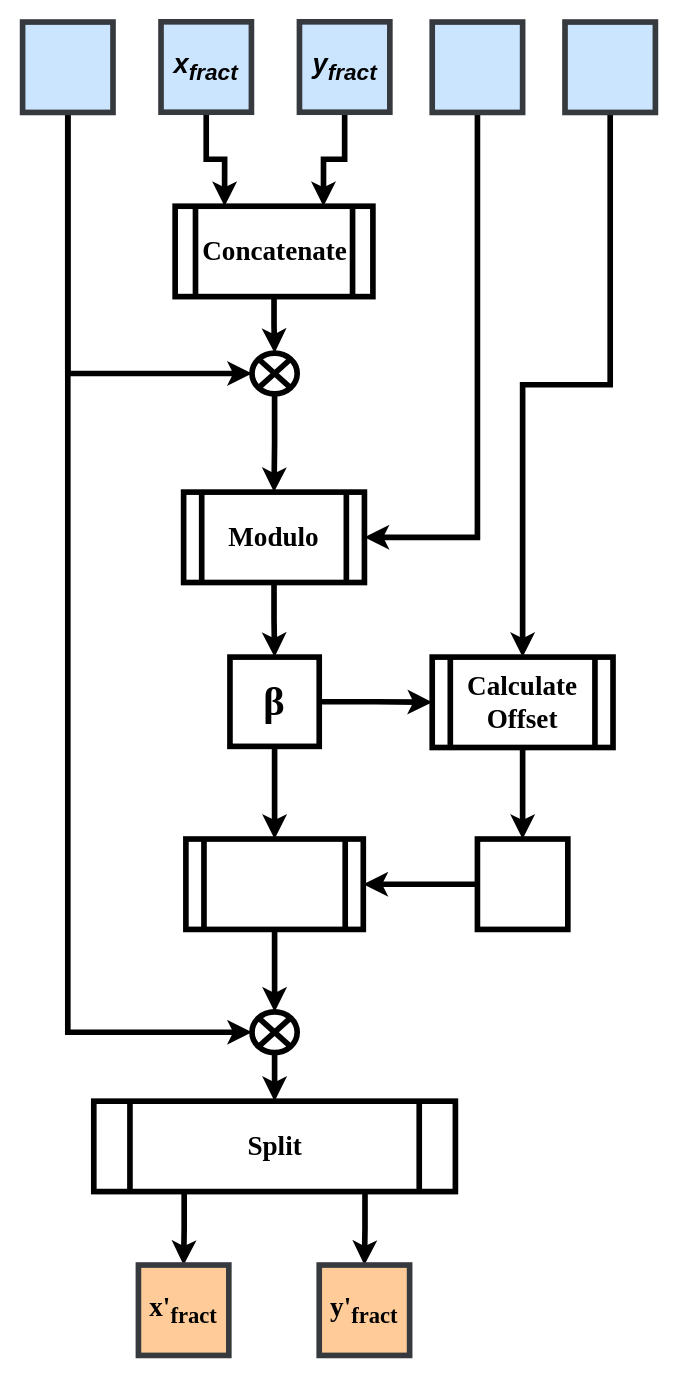
This 677x1379 diagram has some shape labels left out. Here are the shapes that lost their labels. From the top down, the centre of each, then its label:
the point at 67,67: Key
the point at 477,67: 2 l
the point at 610,67: Block Value(V)
the point at 274,884: Add
the point at 522,884: Offset
